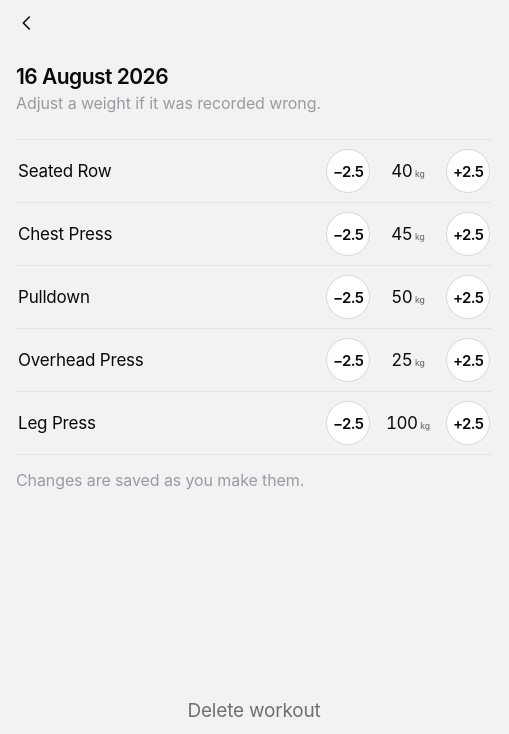
Test case: correcting a past workout › says so once the change is on disk
expect the text "Seated Row" is shown: met, box x1=18 y1=158 x2=112 y2=184
expect the message reads "Changes are saved as you make them.": met, box x1=16 y1=470 x2=304 y2=490
Click the button named "Increase weight for Pulldown" at (468, 297), box x1=446 y1=275 x2=490 y2=319
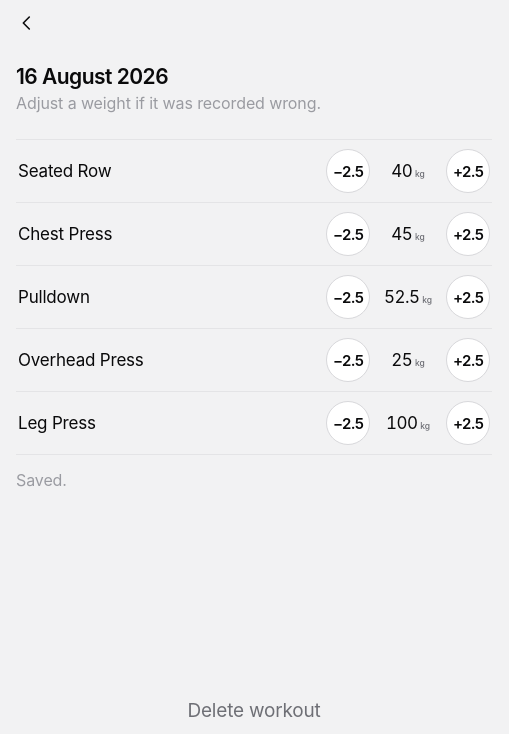
expect the message reads "Saved.": met, box x1=16 y1=470 x2=67 y2=490
